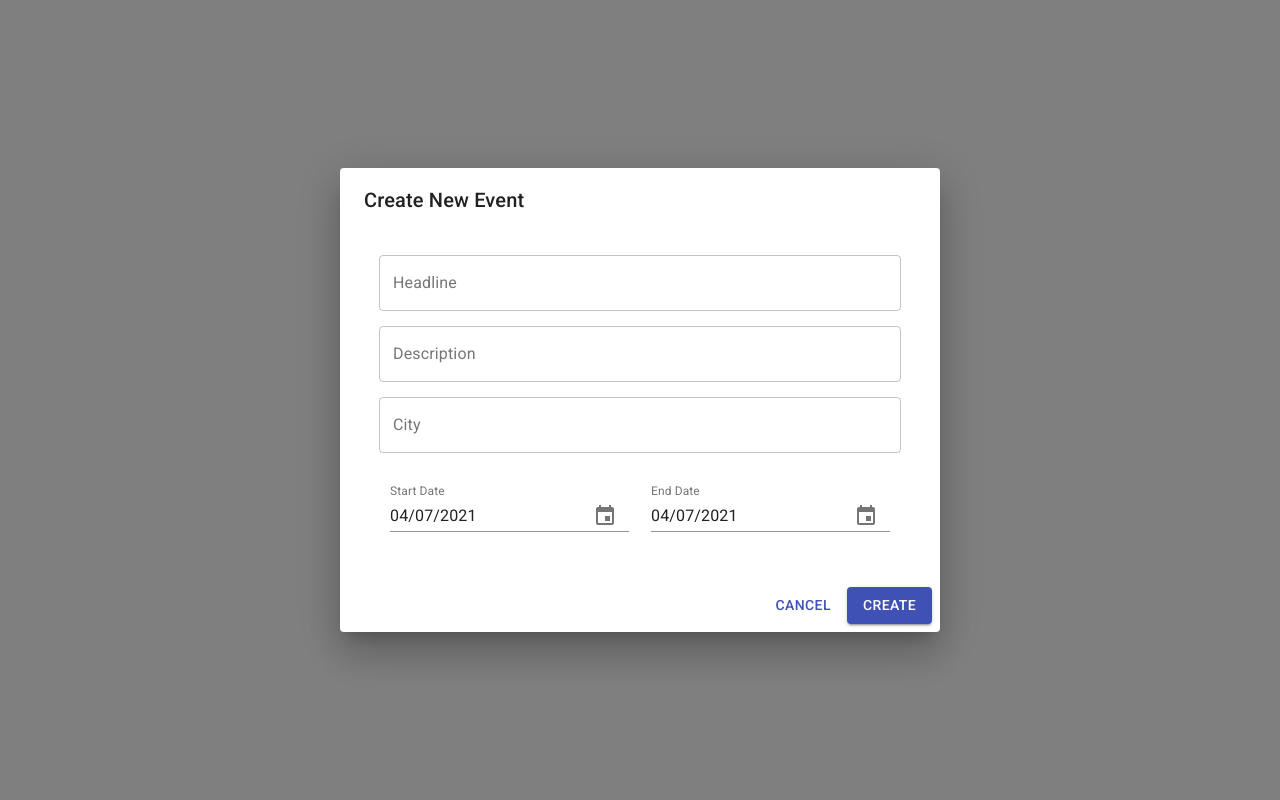
Scenario: CreateEventDialog › displays input validation errors correctly
This screenshot has width=1280, height=800.
Type "07/07/2027" into the field with test id "start-date-picker" at (482,516), box x1=390 y1=500 x2=573 y2=532
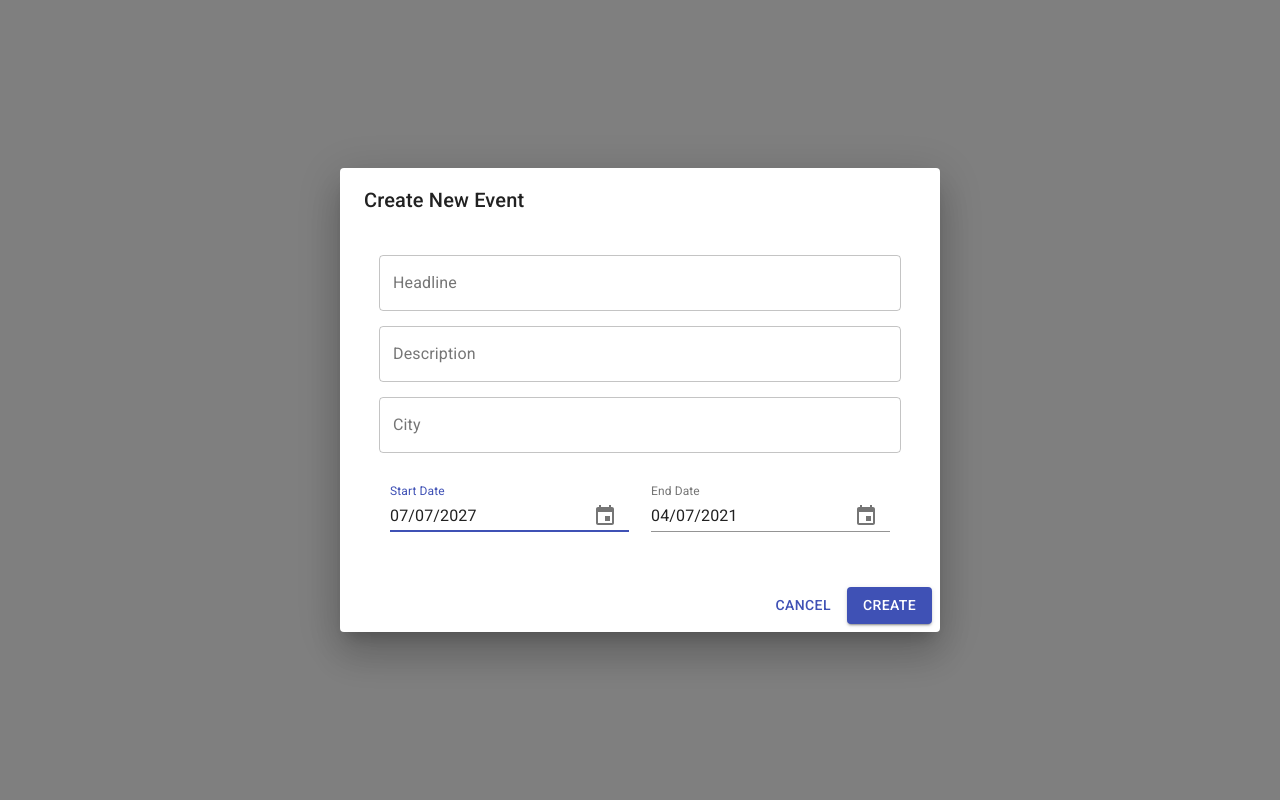
Click the button with test id "create-new-event-submit" at (889,606), box x1=847 y1=587 x2=932 y2=624
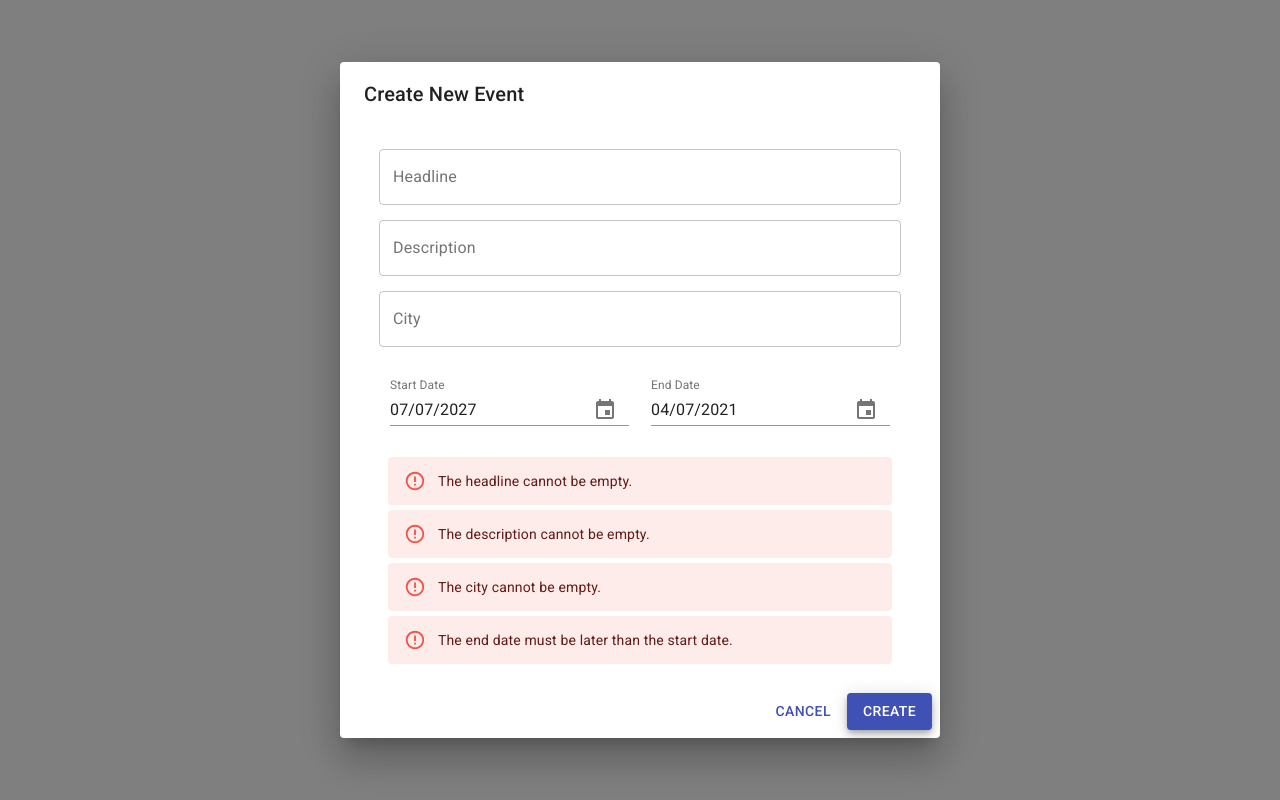
Now the text "The headline cannot be empty." is shown 3 times, box x1=438 y1=473 x2=632 y2=489; x1=438 y1=526 x2=650 y2=542; x1=438 y1=579 x2=601 y2=595
Now the text "The end date must be later than the start date." is shown, box x1=438 y1=632 x2=733 y2=648
